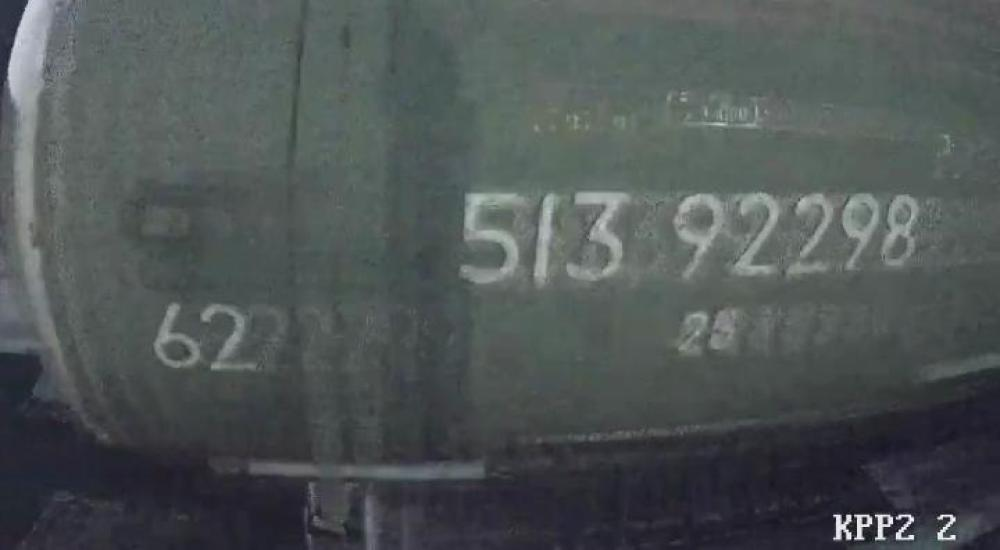Wagon-number: (451, 173, 924, 289)
